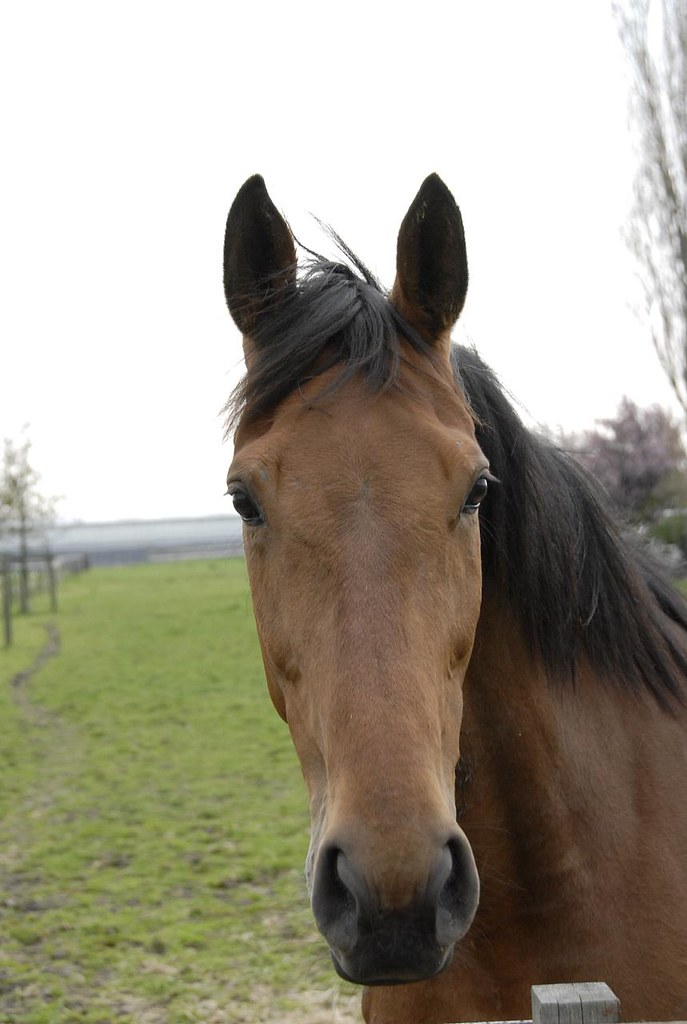horse: (203, 166, 687, 1007)
